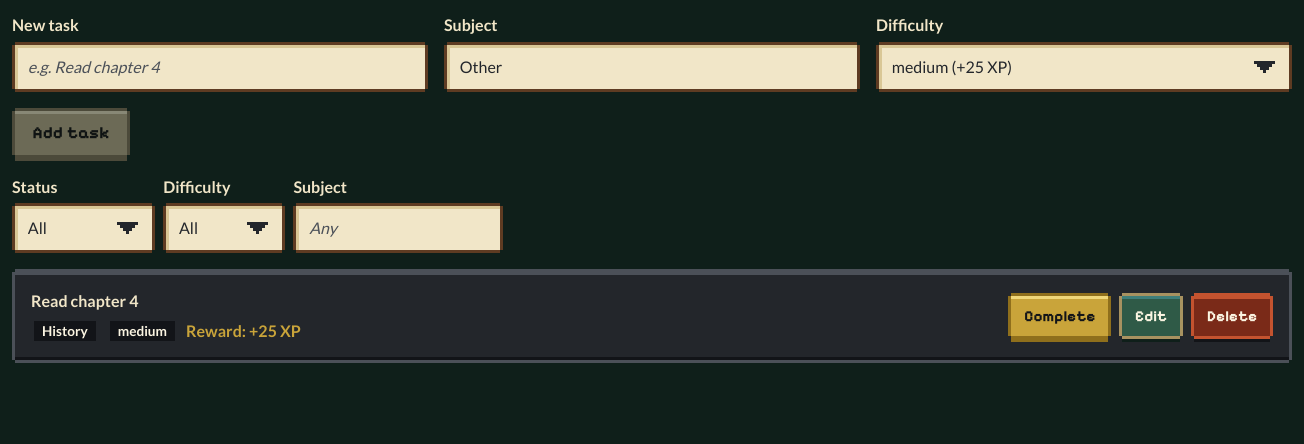
Scenario: TasksPanel › says plainly when the daily cap paid nothing
Check: the text "Read chapter 4" is shown, box [31,291,138,310]
Click the button "Complete".
click(1060, 316)  # box [1012,296,1108,336]
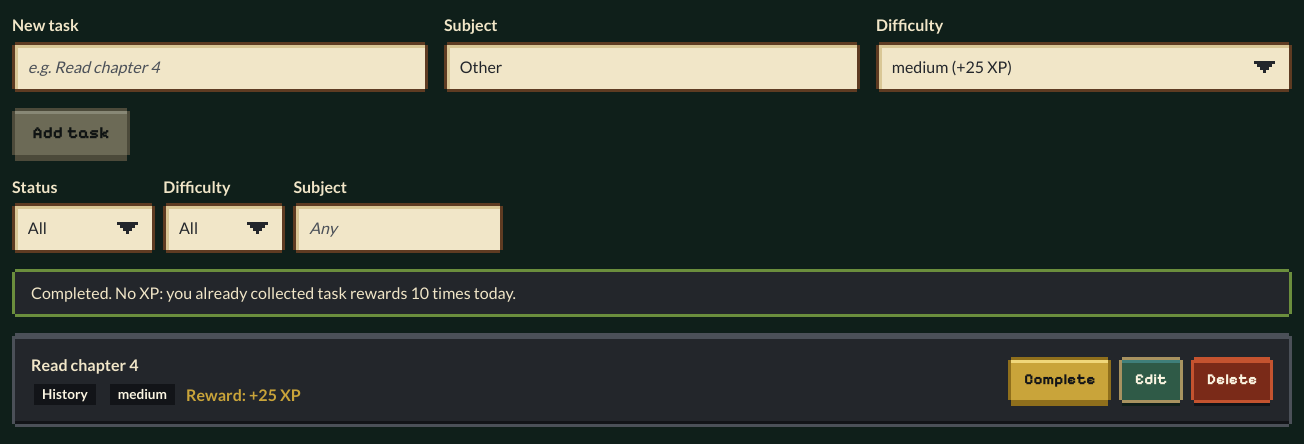
Check: the text "Completed. No XP: you already collected task rewards 10 times today." is shown, box [15,272,1289,314]
